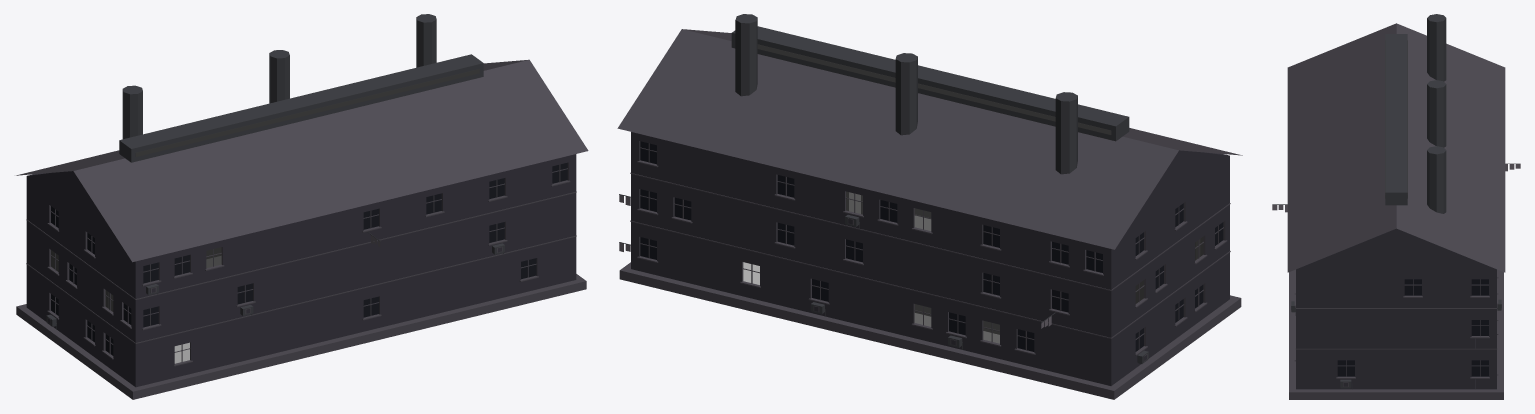
The model's file is cond_shed_a.glb.
3 renders of one model, left to right at view 1: azimuth 30°, elevation 25°; view 2: azimuth 150°, elevation 25°; view 3: azimuth 270°, elevation 25°, orthographic. The views are drawn at different scales.
Parts seen in each view (by area): view 1: cond_shed_a; view 2: cond_shed_a; view 3: cond_shed_a.
Part boxes in pixels (x1,y1,x2,y2): cond_shed_a: (16, 14, 588, 399); cond_shed_a: (617, 14, 1242, 399); cond_shed_a: (1272, 14, 1520, 399).
Bounding box in the file's own units: 35.9 × 16.9 × 17.8.
7 materials, 2 textured.
